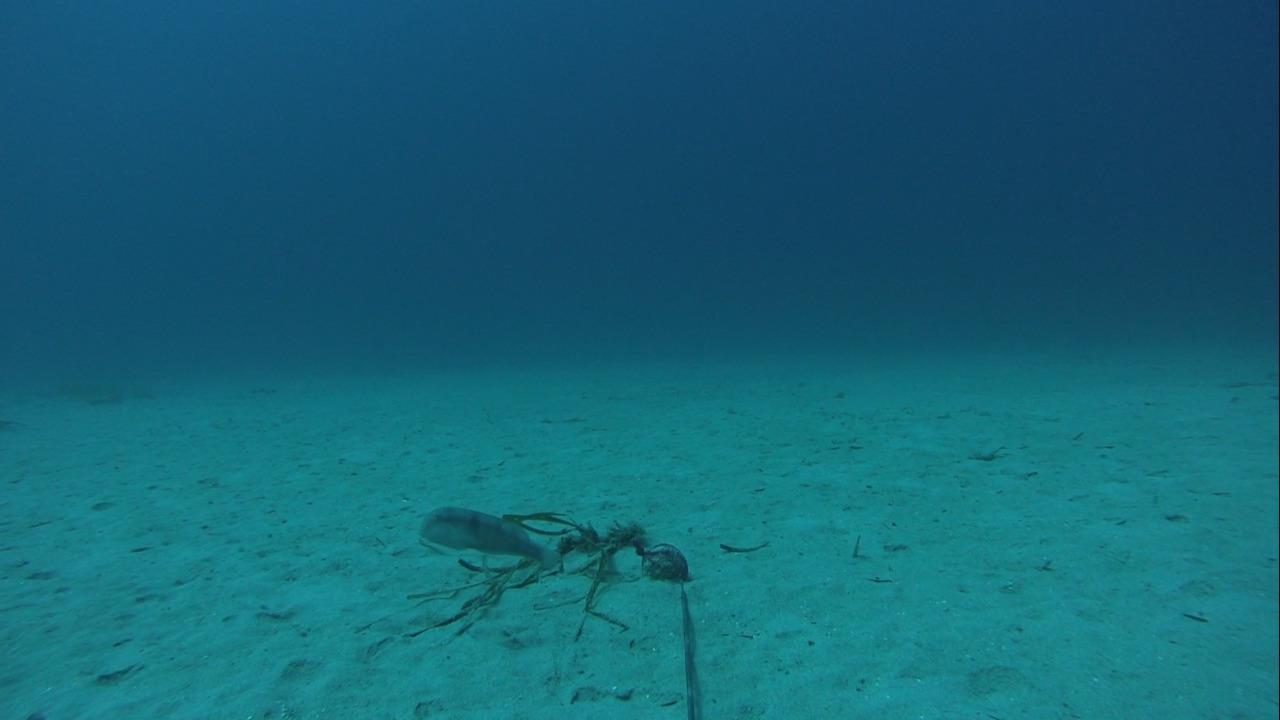raor: (411, 499, 560, 568)
